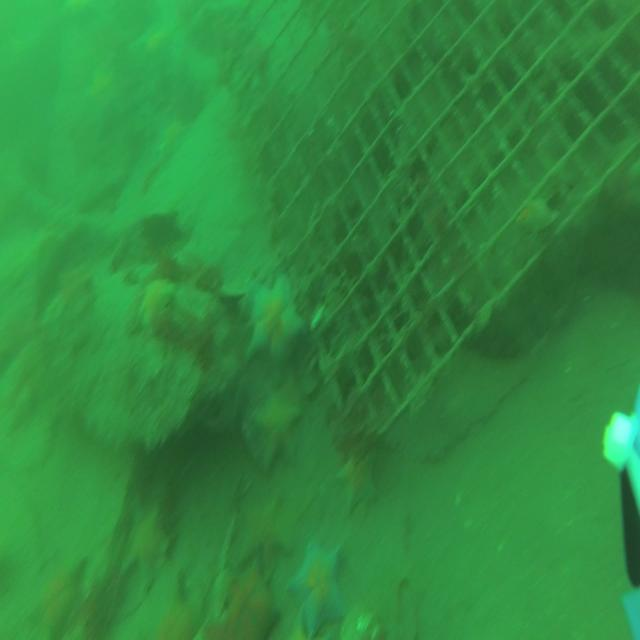starfish: (206, 556, 280, 638), (288, 541, 346, 639), (27, 553, 85, 640), (251, 277, 303, 363), (238, 496, 290, 580), (122, 508, 168, 593), (149, 570, 209, 634), (252, 397, 300, 471), (338, 458, 375, 513), (137, 278, 172, 336), (84, 63, 118, 117)
